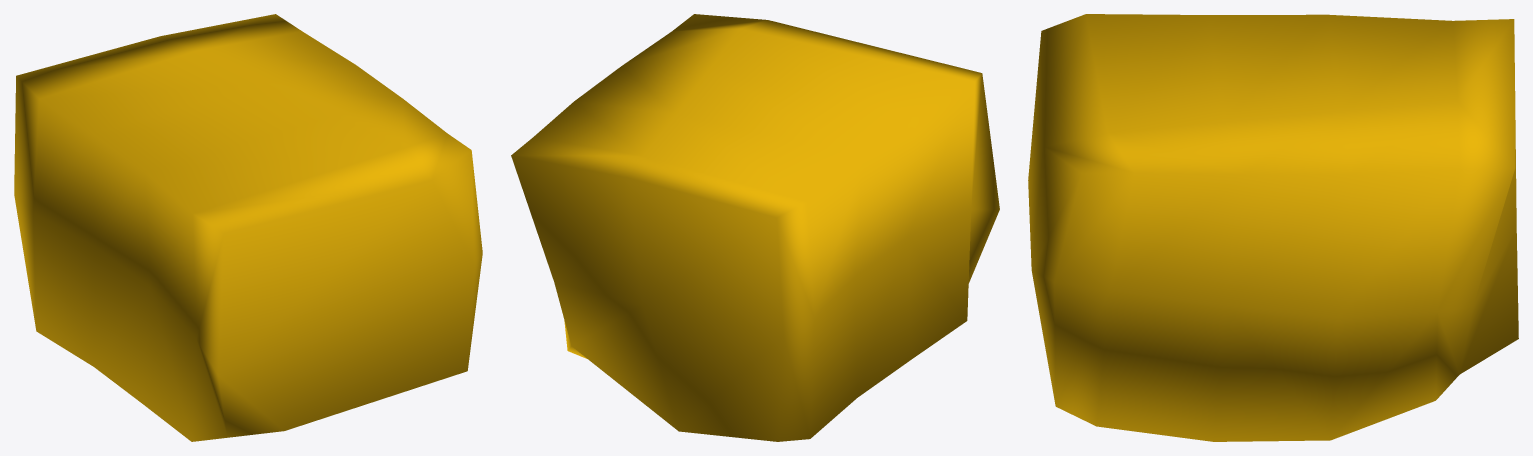
The model's file is Stone_Block_05_Lod1.fbx.
The picture shows the model from 3 angles, left to right: view 1: azimuth 30°, elevation 25°; view 2: azimuth 150°, elevation 25°; view 3: azimuth 270°, elevation 25°; orthographic projection. The views are drawn at different scales.
Visible parts, largest first — view 1: Stone_Block_05_Lod1; view 2: Stone_Block_05_Lod1; view 3: Stone_Block_05_Lod1.
Part boxes in pixels (x1,y1,x2,y2): Stone_Block_05_Lod1: (14, 14, 482, 441); Stone_Block_05_Lod1: (511, 14, 999, 441); Stone_Block_05_Lod1: (1028, 14, 1518, 441).
Bounding box in the file's own units: 453 × 369 × 593.
